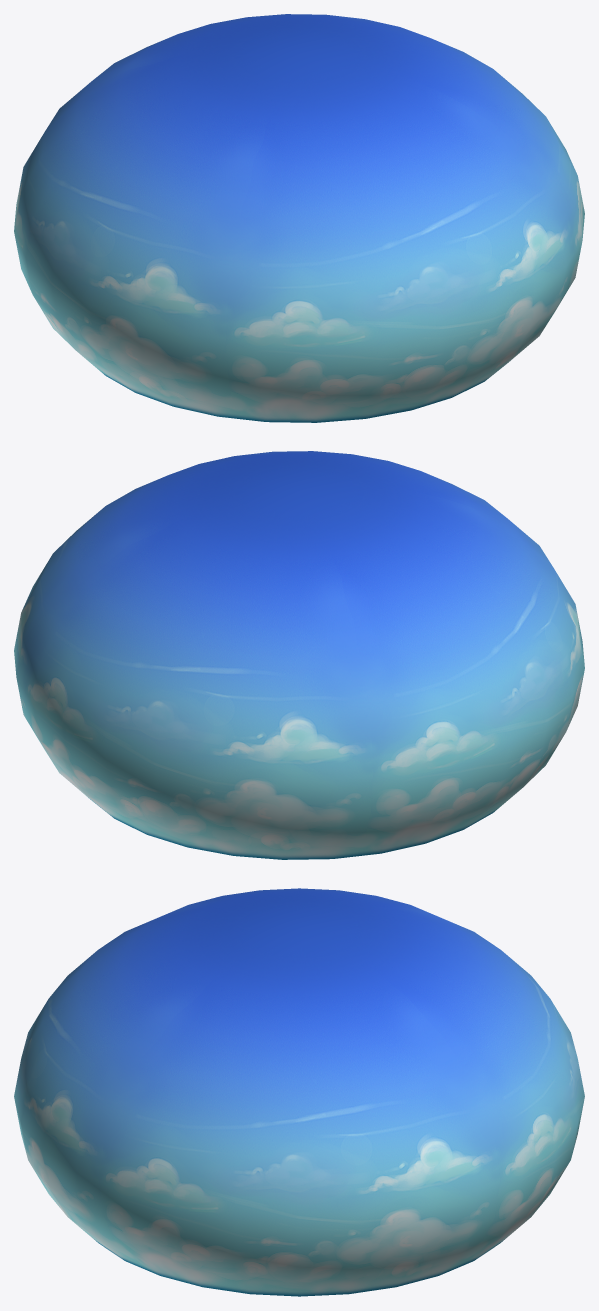
File: Ship.FBX
3 views of the same model, one above another, from view 1: azimuth 30°, elevation 25°; view 2: azimuth 150°, elevation 25°; view 3: azimuth 270°, elevation 25° (orthographic).
Parts seen in each view (by area): view 1: sky; view 2: sky; view 3: sky.
Part boxes in pixels (x1,y1,x2,y2): sky: (14, 14, 584, 422); sky: (14, 451, 584, 859); sky: (14, 888, 584, 1296).
Size of the model in its own units: 4107 by 2347 by 4107.
